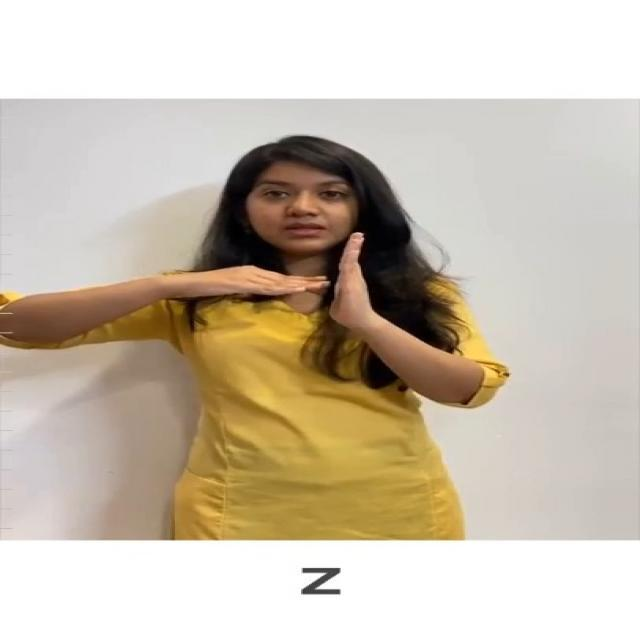Z: (168, 228, 382, 336)
